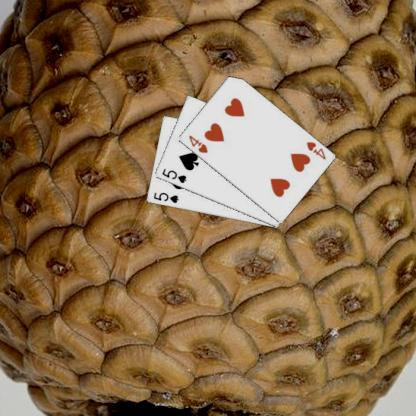4H: (304, 139, 327, 161), (186, 132, 208, 154)
5S: (159, 166, 187, 185), (150, 190, 180, 205)
